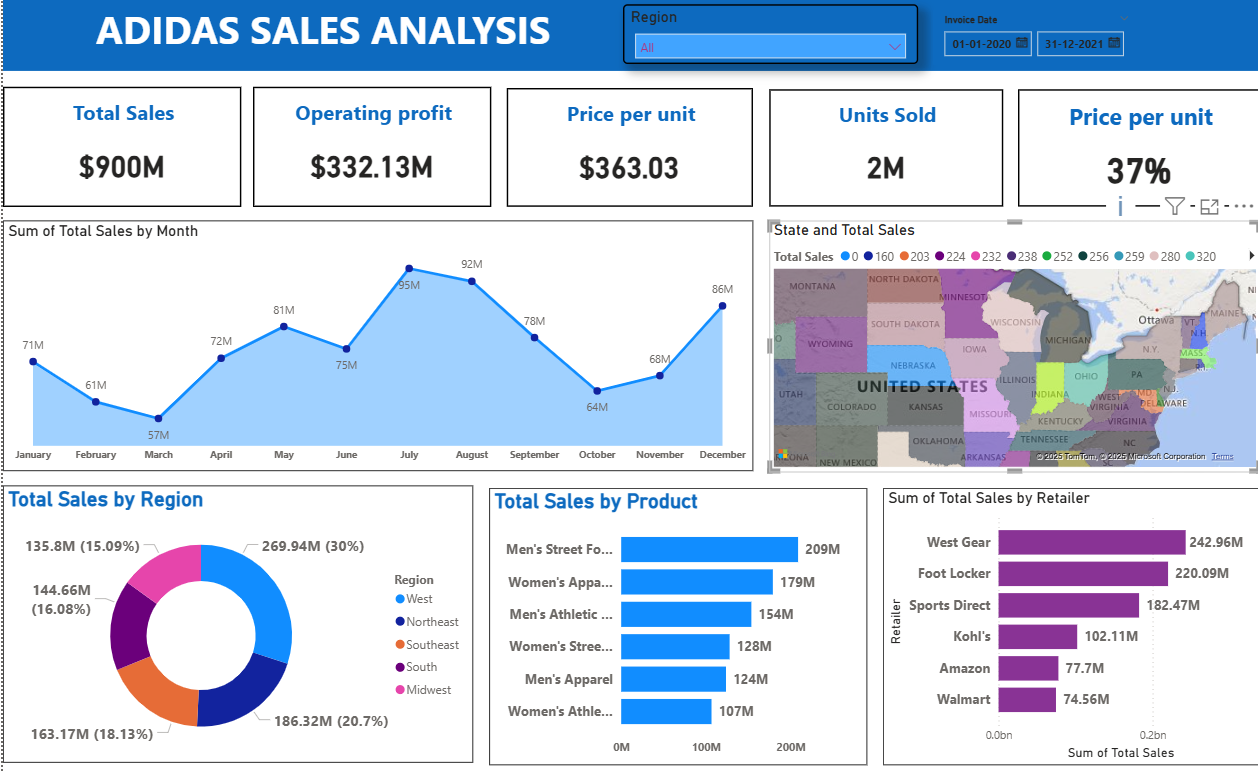

Layout of this report page (visuals, bound fields, positions):
{"tool":"powerbi","page":{"name":"Page 1","canvas":[1400,861],"ordinal":0},"visuals":[{"type":"shape","box":[0,0,1400.3,80.8],"z":0},{"type":"textbox","box":[0,0,711.7,66.7],"z":1000},{"type":"card","fields":{"Values":["Sum(Data Sales Adidas.Total Sales)"]},"box":[0,98.3,265,133.3],"z":2000},{"type":"card","fields":{"Values":["Sum(Data Sales Adidas.Operating Profit)"]},"box":[278.3,98.3,265,133.3],"z":3000},{"type":"card","fields":{"Values":["Sum(Data Sales Adidas.Units Sold)"]},"box":[851.7,101.7,260,130],"z":4000},{"type":"card","fields":{"Values":["Data Sales Adidas.INDI Price per Unit"]},"box":[560,100,273.3,131.7],"z":5000},{"type":"card","fields":{"Values":["Data Sales Adidas.perating Margin %"]},"box":[1128.3,101.7,270,130],"z":6000},{"type":"areaChart","fields":{"Category":["Data Sales Adidas.Invoice Date.Variation.Date Hierarchy.Month"],"Y":["Sum(Data Sales Adidas.Total Sales)"]},"box":[0,247.5,833.8,278.8],"z":7000},{"type":"donutChart","title":"Total Sales by Region","fields":{"Y":["Sum(Data Sales Adidas.Total Sales)"],"Category":["Data Sales Adidas.Region"]},"box":[0,542,522,308],"z":8000},{"type":"clusteredBarChart","title":"Total Sales by Product","fields":{"Category":["Data Sales Adidas.Product"],"Y":["Sum(Data Sales Adidas.Total Sales)"]},"box":[540,544,420,308],"z":9000},{"type":"clusteredBarChart","fields":{"Y":["Sum(Data Sales Adidas.Total Sales)"],"Category":["Data Sales Adidas.Retailer"]},"box":[978,544,422,308],"z":10000},{"type":"filledMap","fields":{"Category":["Data Sales Adidas.State"],"Series":["Data Sales Adidas.Total Sales"]},"box":[851.2,247.5,546.2,278.8],"z":11000},{"type":"slicer","title":"Region","fields":{"Values":["Data Sales Adidas.Region"]},"box":[688.3,6.7,328.3,66.7],"z":12000},{"type":"slicer","fields":{"Values":["Data Sales Adidas.Invoice Date"]},"box":[1032.9,12.9,230,61.4],"z":13000}]}

Visuals, with their boxes in screenshot pixels (x1, y1, x2, y2), scaled from the page's 1400x861 canvas onto the 1258x771 screenshot:
shape: [x1=0, y1=0, x2=1257, y2=72]
textbox: [x1=0, y1=0, x2=640, y2=60]
card - Sum(Data Sales Adidas.Total Sales): [x1=0, y1=88, x2=238, y2=207]
card - Sum(Data Sales Adidas.Operating Profit): [x1=250, y1=88, x2=488, y2=207]
card - Sum(Data Sales Adidas.Units Sold): [x1=765, y1=91, x2=999, y2=207]
card - Data Sales Adidas.INDI Price per Unit: [x1=503, y1=90, x2=749, y2=207]
card - Data Sales Adidas.perating Margin %: [x1=1014, y1=91, x2=1256, y2=207]
areaChart - Data Sales Adidas.Invoice Date.Variation.Date Hierarchy.Month x Sum(Data Sales Adidas.Total Sales): [x1=0, y1=222, x2=749, y2=471]
"Total Sales by Region" donutChart: [x1=0, y1=485, x2=469, y2=761]
"Total Sales by Product" clusteredBarChart: [x1=485, y1=487, x2=863, y2=763]
clusteredBarChart - Sum(Data Sales Adidas.Total Sales) x Data Sales Adidas.Retailer: [x1=879, y1=487, x2=1257, y2=763]
filledMap - Data Sales Adidas.State x Data Sales Adidas.Total Sales: [x1=765, y1=222, x2=1256, y2=471]
"Region" slicer: [x1=618, y1=6, x2=913, y2=66]
slicer - Data Sales Adidas.Invoice Date: [x1=928, y1=12, x2=1135, y2=67]
